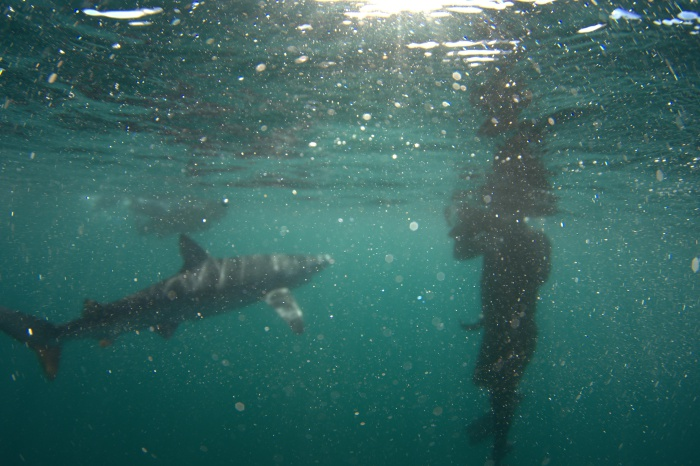Azul: (1, 224, 345, 391)
